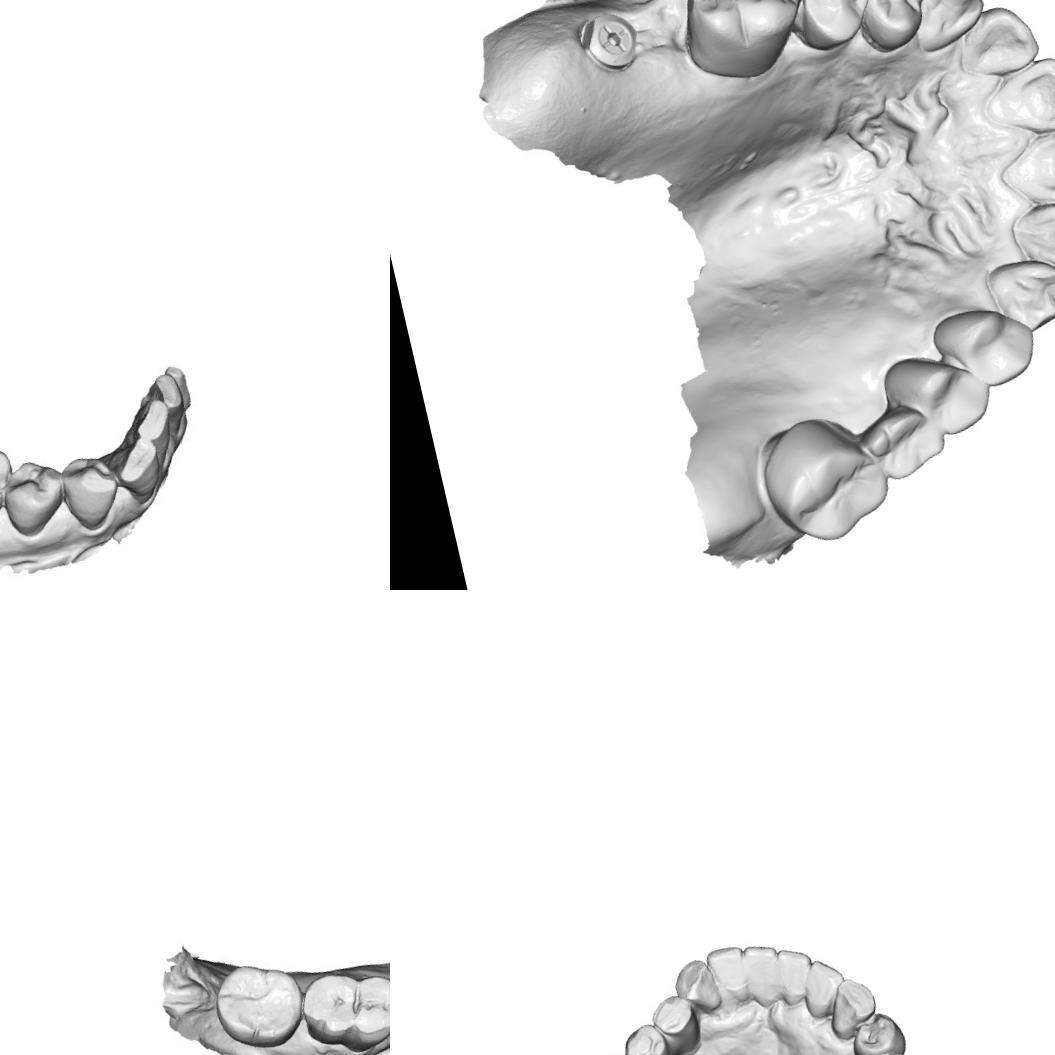canine: (982, 243, 1055, 339), (904, 0, 991, 57), (820, 972, 882, 1043), (669, 954, 723, 1018)
implant_plus: (581, 7, 647, 78)
incisor: (953, 0, 1049, 87), (976, 50, 1055, 144), (991, 121, 1055, 219), (108, 434, 174, 509), (737, 938, 790, 1013), (795, 954, 853, 1022), (1010, 194, 1055, 275), (125, 398, 182, 459), (704, 941, 754, 1010), (772, 942, 822, 1010)
molar: (752, 402, 900, 554), (665, 0, 816, 90), (297, 952, 390, 1055), (214, 957, 308, 1048), (0, 434, 19, 534)
premolar: (930, 293, 1044, 397), (889, 339, 996, 448), (849, 397, 952, 489), (0, 456, 71, 535), (846, 0, 941, 58), (785, 0, 881, 57), (60, 452, 124, 529), (647, 990, 706, 1055), (843, 1006, 909, 1055), (618, 1018, 680, 1055)
